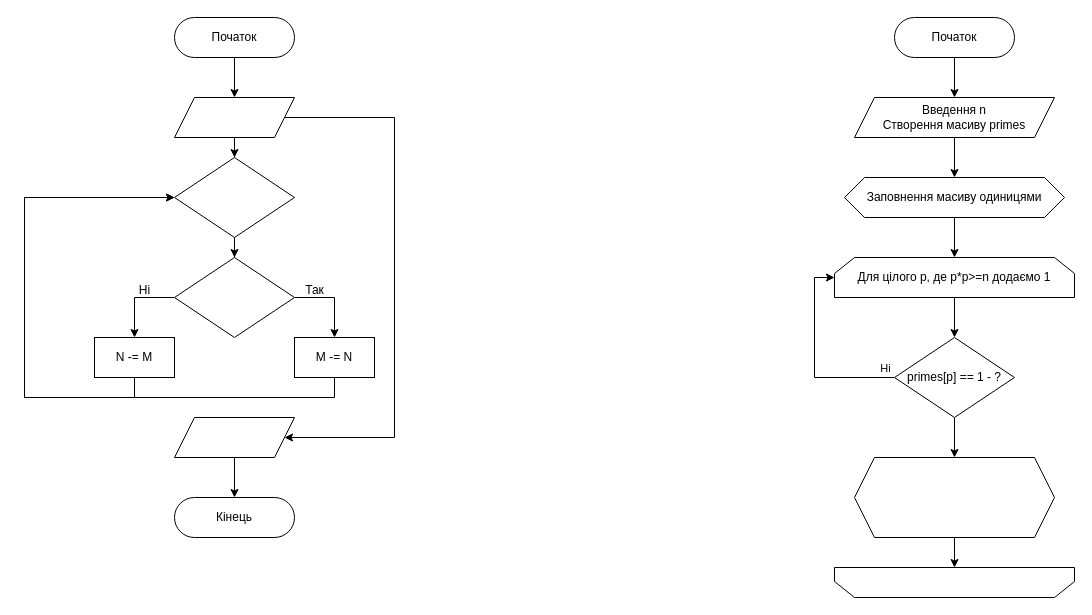
The diagram is 1092 pixels wide and 615 high, and some of its shapes have lost their labels. Here are the shapes that lost their labels. From the top down, the box of each, then its label:
(174, 96, 294, 138): Ввід M,N
(174, 156, 294, 238): M = N ?
(174, 256, 294, 338): M > N ?
(174, 416, 294, 458): Ввід М
(854, 456, 1054, 538): Змінюємо всі одиниці в масиві, на індексах кратних p, на 0
